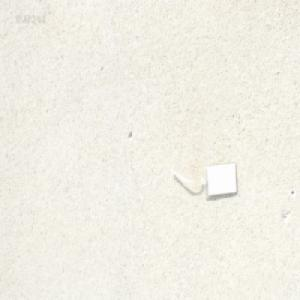LuggageTag: (168, 159, 238, 200)
